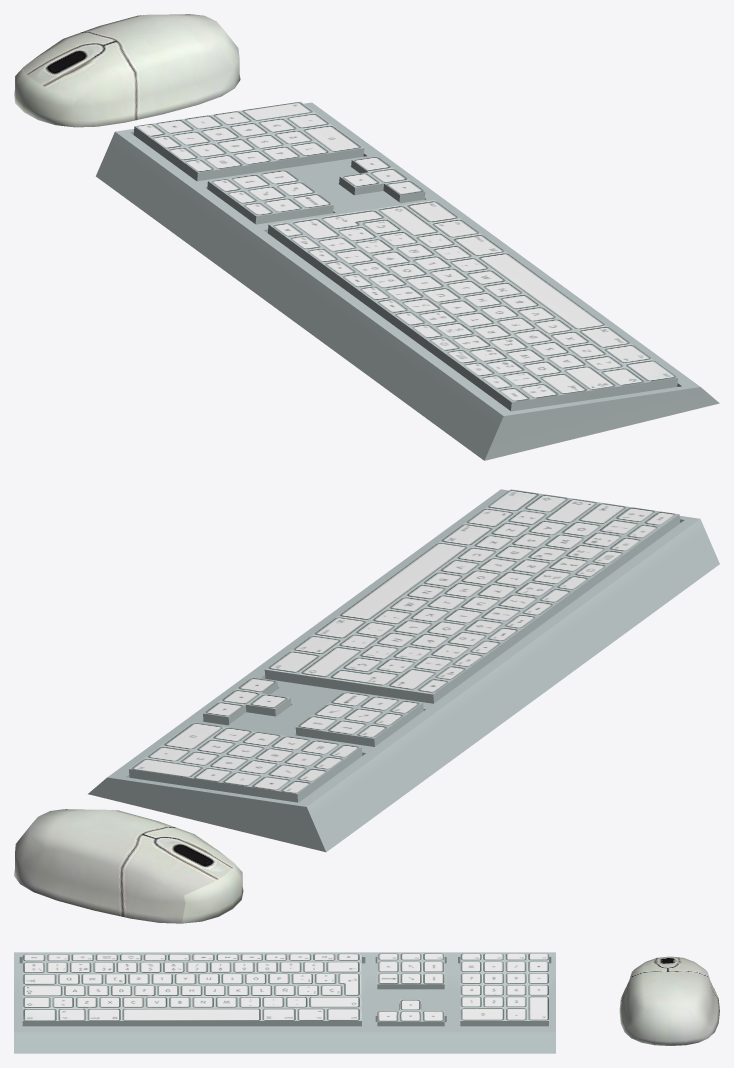
File: keyboard_mouse.fbx
3 views of the same model, one above another, from view 1: azimuth 30°, elevation 25°; view 2: azimuth 150°, elevation 25°; view 3: azimuth 270°, elevation 25° (orthographic). The views are drawn at different scales.
Parts seen in each view (by area): view 1: polySurface1; view 2: polySurface1; view 3: polySurface1.
Boxes of the visible parts, x1=… form: polySurface1: x1=14, y1=14, x2=719, y2=460; polySurface1: x1=14, y1=489, x2=719, y2=923; polySurface1: x1=14, y1=952, x2=719, y2=1053.
Size of the model in its own units: 20.75 by 4.6 by 77.24.
